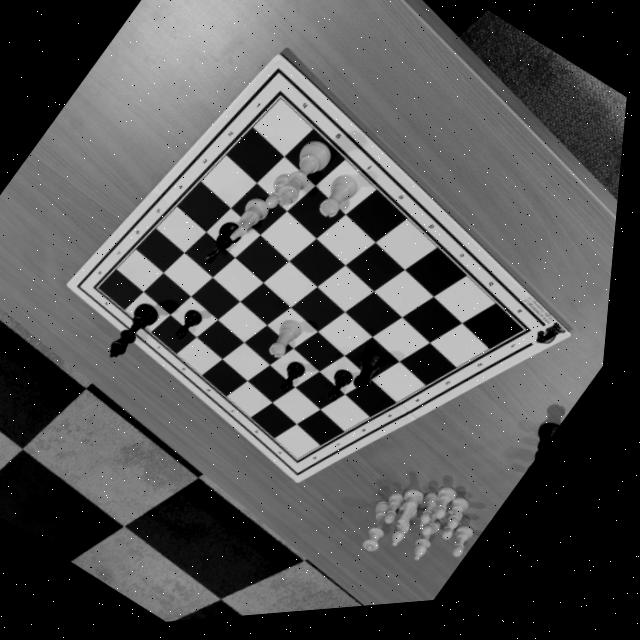chessboard: (101, 100, 533, 466)
